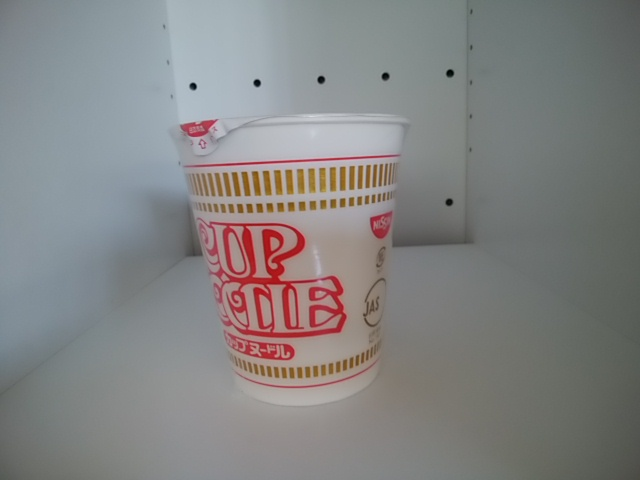cup-ramen: (164, 114, 411, 408)
